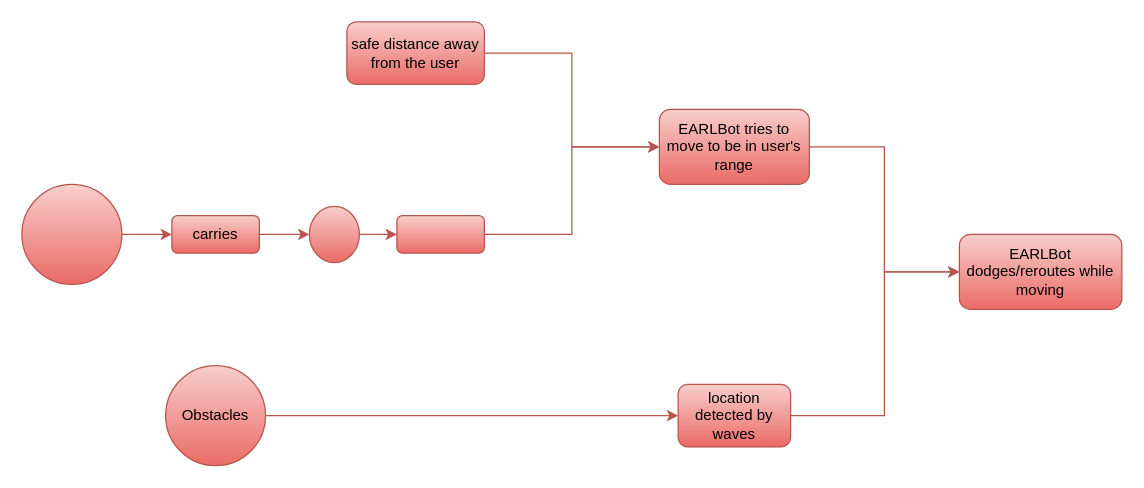
This 1144x488 diagram has some shape labels left out. The shapes that lost their labels are listed below. From the top down, each one's centre as x and y in pixels, then its label:
At pixel 71 233: "user".
At pixel 333 233: "tag".
At pixel 440 233: "location detect".
